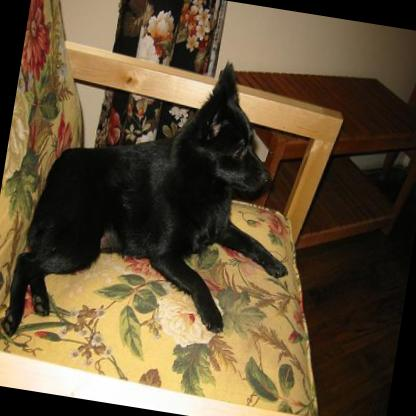schipperke: (0, 27, 317, 373)
